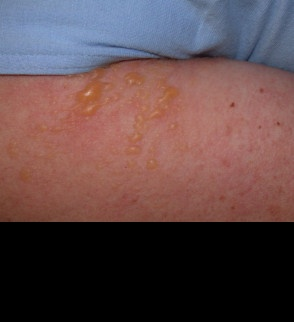SJS-TEN: (0, 57, 202, 196)
